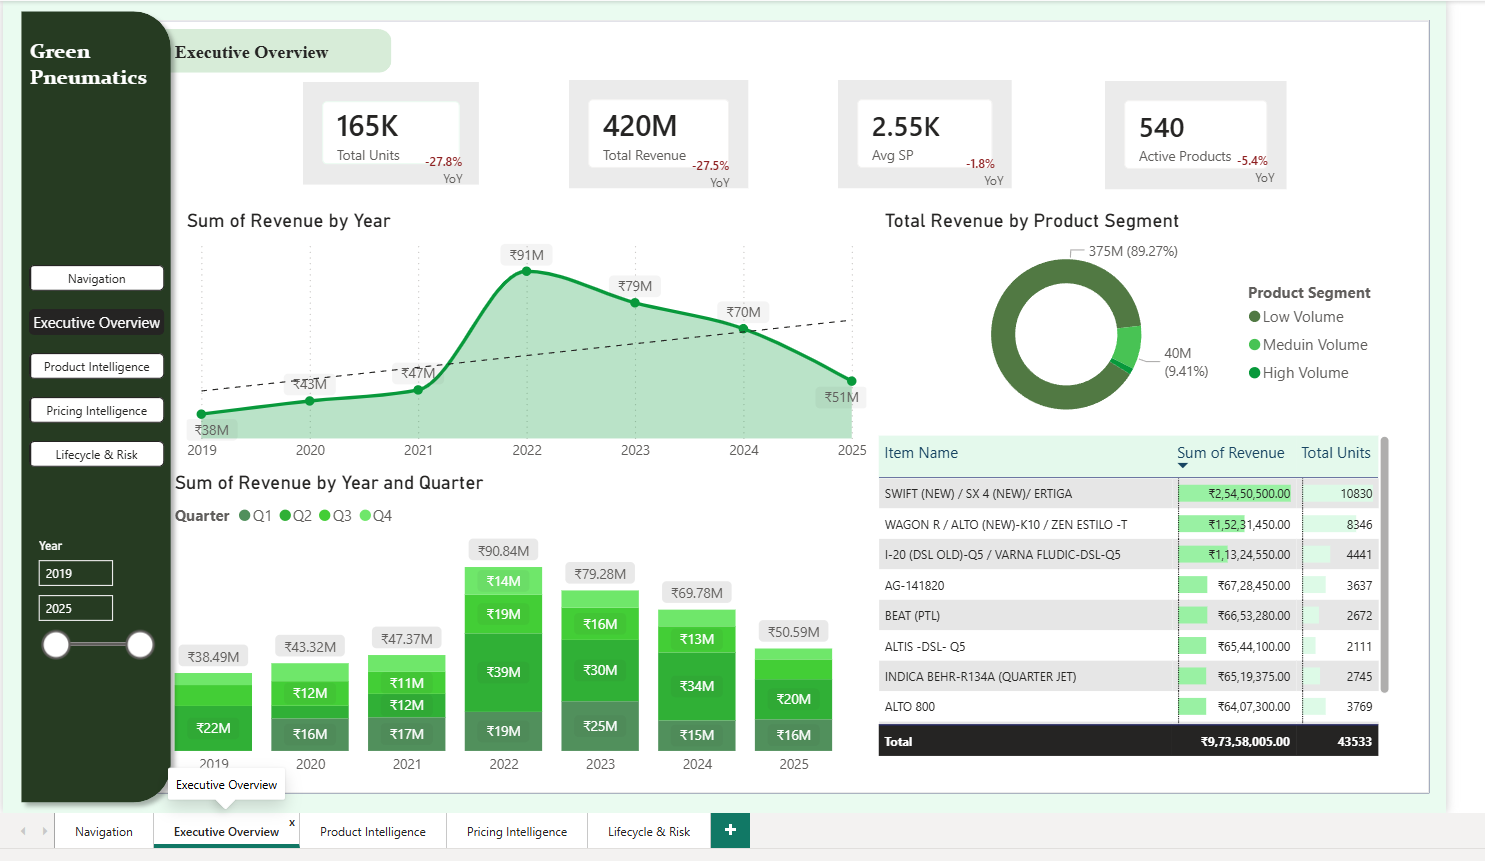

The page's visual inventory and layout, read from the dashboard file:
{"tool":"powerbi","page":{"name":"Executive Overview","canvas":[1280,720],"ordinal":1},"visuals":[{"type":"shape","box":[16.5,16.5,1247.9,685.7],"z":0},{"type":"cardVisual","fields":{"Data":["Master Sales Database.Total Units"]},"box":[266.2,72,156.3,91],"z":1000},{"type":"cardVisual","fields":{"Data":["Master Sales Database.Total Revenue"]},"box":[502.1,70.1,159.2,95.7],"z":2000},{"type":"cardVisual","fields":{"Data":["Master Sales Database.Average SP"]},"box":[740,70.1,154.4,95.7],"z":3000},{"type":"cardVisual","fields":{"Data":["Master Sales Database.Active Products"]},"box":[976.8,71.1,161.1,95.7],"z":4000},{"type":"lineChart","fields":{"Category":["Master Sales Database.Year"],"Y":["Sum(Master Sales Database.Revenue)"]},"box":[157.6,184.8,612.8,232.5],"z":5000},{"type":"columnChart","fields":{"Category":["Master Sales Database.Year"],"Series":["Master Sales Database.Quarter"],"Y":["Sum(Master Sales Database.Revenue)"]},"box":[146.9,416.9,593.1,278.5],"z":6000},{"type":"tableEx","fields":{"Values":["Master Sales Database.Item Name","Sum(Master Sales Database.Revenue)","Master Sales Database.Total Units"]},"box":[770.3,380.3,464,293.7],"z":7000},{"type":"donutChart","fields":{"Category":["Master Sales Database.Product Segment"],"Y":["Master Sales Database.Total Revenue"]},"box":[777.1,184.8,457.1,203.3],"z":8000},{"type":"cardVisual","fields":{"Data":["Master Sales Database.Latest YoY Growth %"]},"box":[581.7,120.3,109,64.4],"z":9000},{"type":"shape","box":[29.4,24.6,315.5,38.8],"z":10000},{"type":"cardVisual","fields":{"Data":["Master Sales Database.Latest Units YoY %"]},"box":[344.9,117.5,109,64.4],"z":11000},{"type":"cardVisual","fields":{"Data":["Master Sales Database.YoY Avg SP %"]},"box":[824.3,118.4,109,64.4],"z":12000},{"type":"cardVisual","fields":{"Data":["Master Sales Database.Latest Active Products YoY %"]},"box":[1064.9,116.5,109,64.4],"z":13000},{"type":"actionButton","box":[92.8,649,32.2,24.6],"z":14000},{"type":"shape","box":[6.8,0,150.8,719.8],"z":15000},{"type":"textbox","box":[146.9,32.2,177.2,31.3],"z":16000},{"type":"textbox","box":[18.9,27.5,127.9,71.1],"z":17000},{"type":"pageNavigator","box":[22.7,234,120.3,182.9],"z":18000},{"type":"slicer","fields":{"Values":["Master Sales Database.Year"]},"box":[18.9,471.8,124.1,131.7],"z":19000}]}

Visuals, with their boxes on the page's 1280x720 design canvas (x1, y1, x2, y2). These are canvas units, not pixel positions in the 1485x861 screenshot, which may show the page scaled, cropped or inside an application window:
shape: Rect(16, 16, 1264, 702)
cardVisual - Master Sales Database.Total Units: Rect(266, 72, 422, 163)
cardVisual - Master Sales Database.Total Revenue: Rect(502, 70, 661, 166)
cardVisual - Master Sales Database.Average SP: Rect(740, 70, 894, 166)
cardVisual - Master Sales Database.Active Products: Rect(977, 71, 1138, 167)
lineChart - Master Sales Database.Year x Sum(Master Sales Database.Revenue): Rect(158, 185, 770, 417)
columnChart - Master Sales Database.Year x Master Sales Database.Quarter: Rect(147, 417, 740, 695)
tableEx - Master Sales Database.Item Name x Sum(Master Sales Database.Revenue): Rect(770, 380, 1234, 674)
donutChart - Master Sales Database.Product Segment x Master Sales Database.Total Revenue: Rect(777, 185, 1234, 388)
cardVisual - Master Sales Database.Latest YoY Growth %: Rect(582, 120, 691, 185)
shape: Rect(29, 25, 345, 63)
cardVisual - Master Sales Database.Latest Units YoY %: Rect(345, 118, 454, 182)
cardVisual - Master Sales Database.YoY Avg SP %: Rect(824, 118, 933, 183)
cardVisual - Master Sales Database.Latest Active Products YoY %: Rect(1065, 116, 1174, 181)
actionButton: Rect(93, 649, 125, 674)
shape: Rect(7, 0, 158, 720)
textbox: Rect(147, 32, 324, 64)
textbox: Rect(19, 28, 147, 99)
pageNavigator: Rect(23, 234, 143, 417)
slicer - Master Sales Database.Year: Rect(19, 472, 143, 604)
